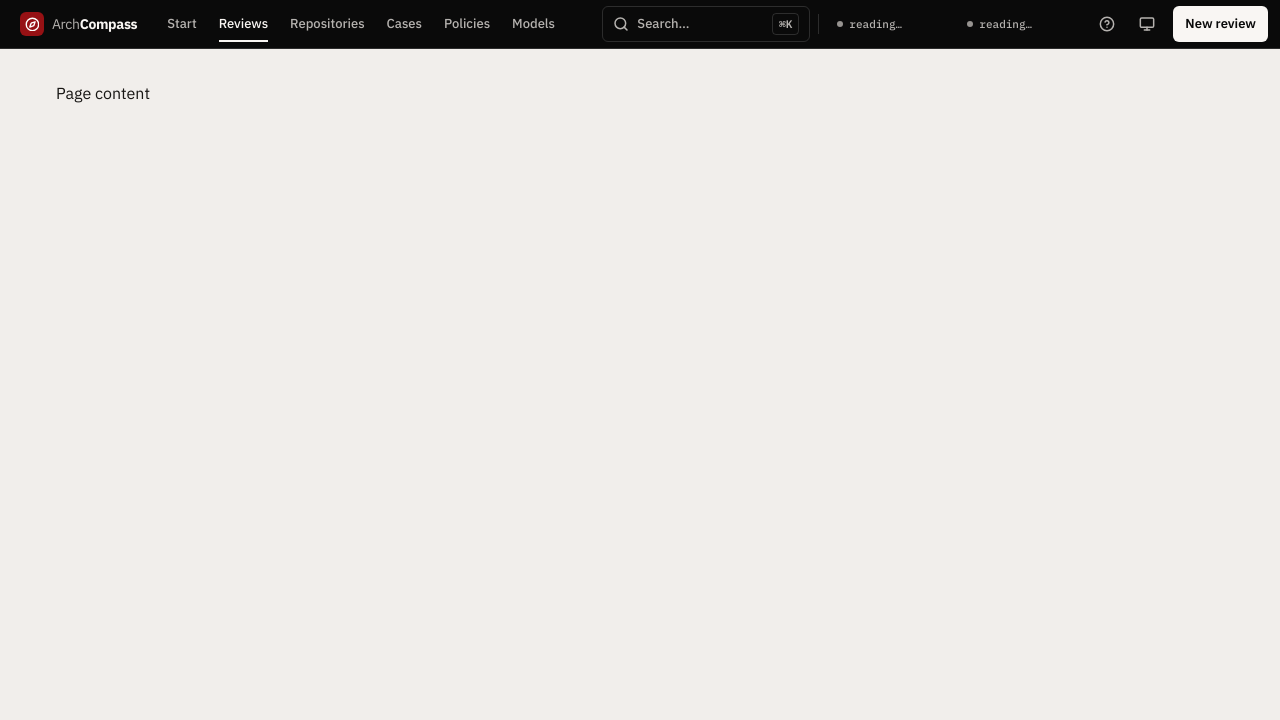
the application shell › opens the shortcut sheet from the rail and from the ? key
This screenshot has width=1280, height=720.
Click the button named "Keyboard shortcuts": (1107, 24) [1089,6,1125,42]
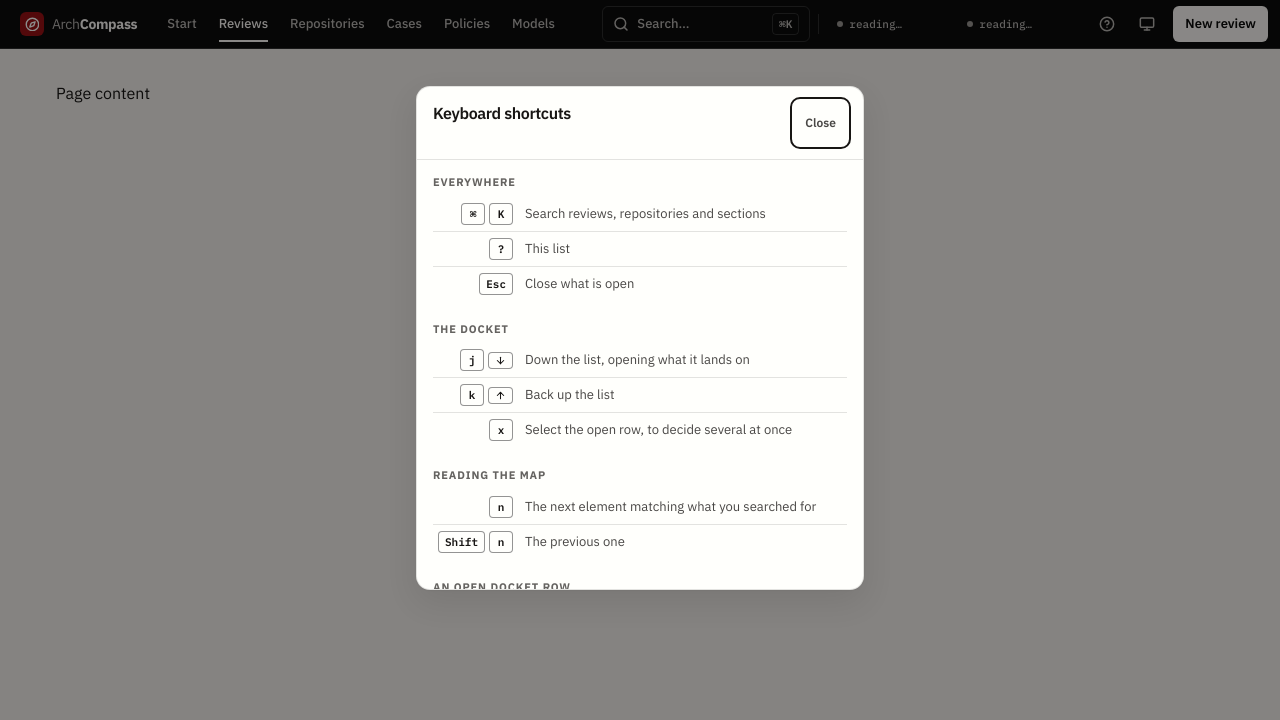
Press Escape
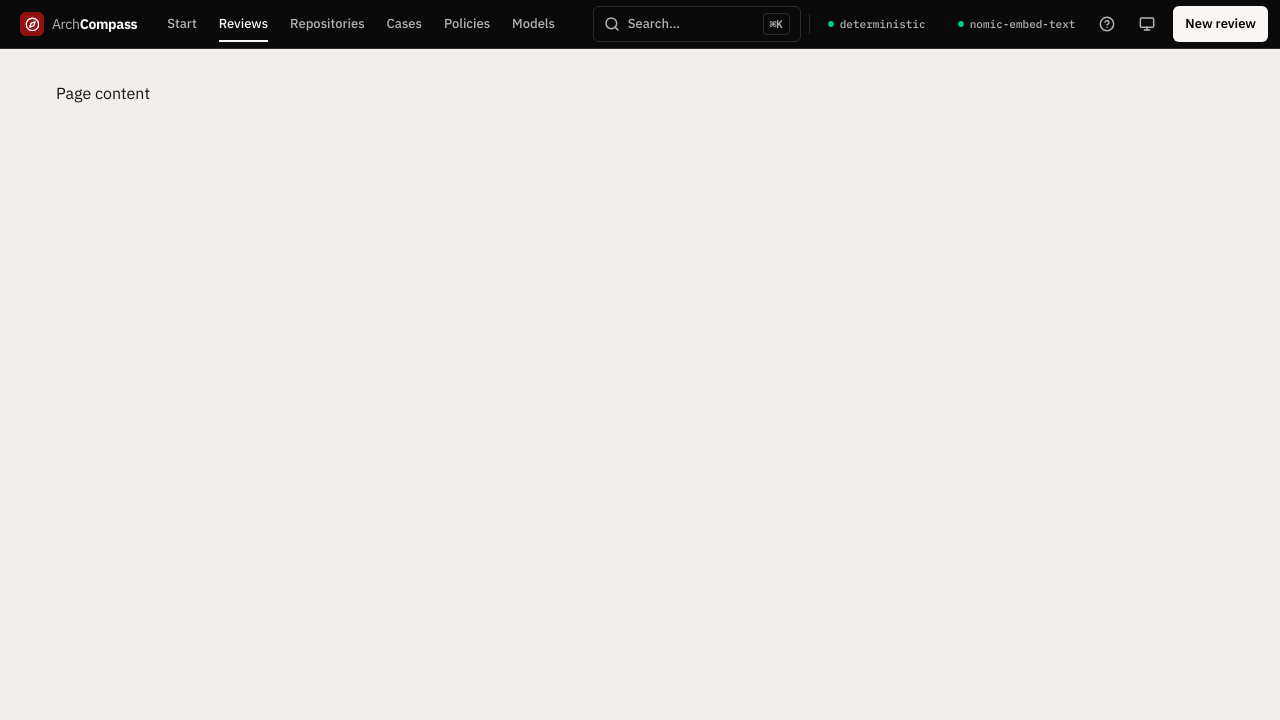
Check: the heading "Keyboard shortcuts" is gone
Press ?
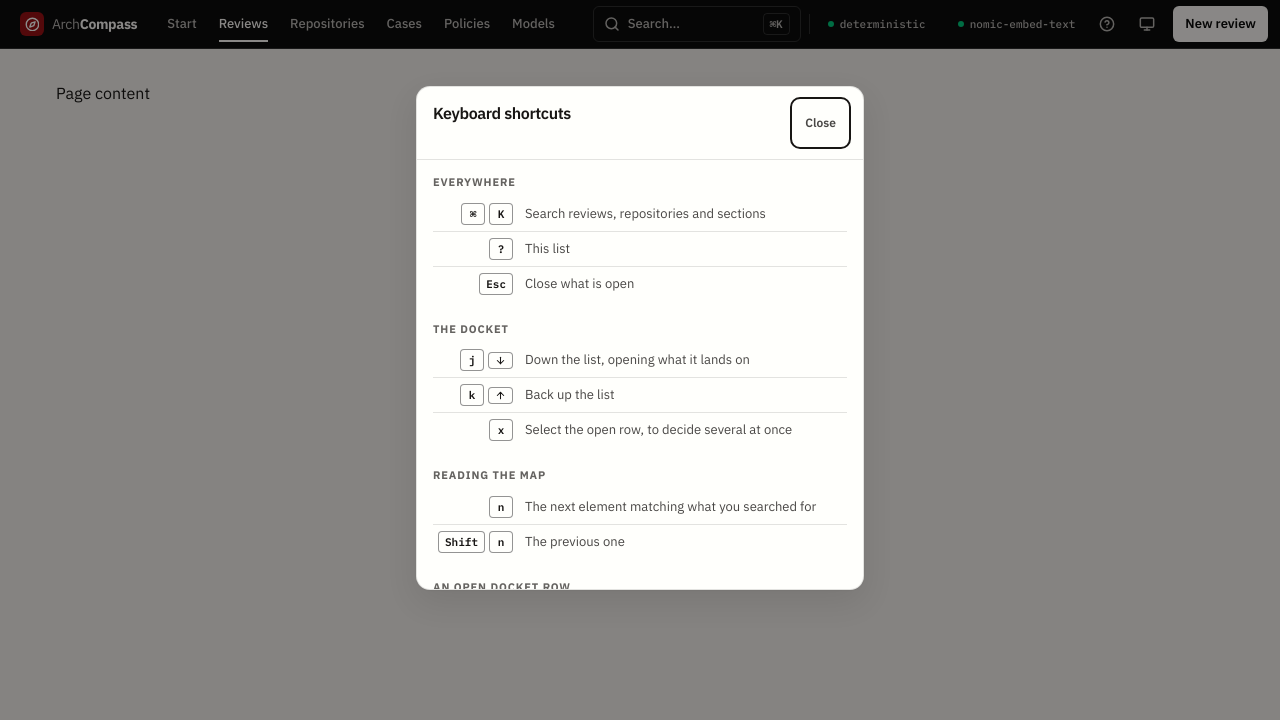
Check: the dialog "Keyboard shortcuts" is shown, box [416,86,864,590]
